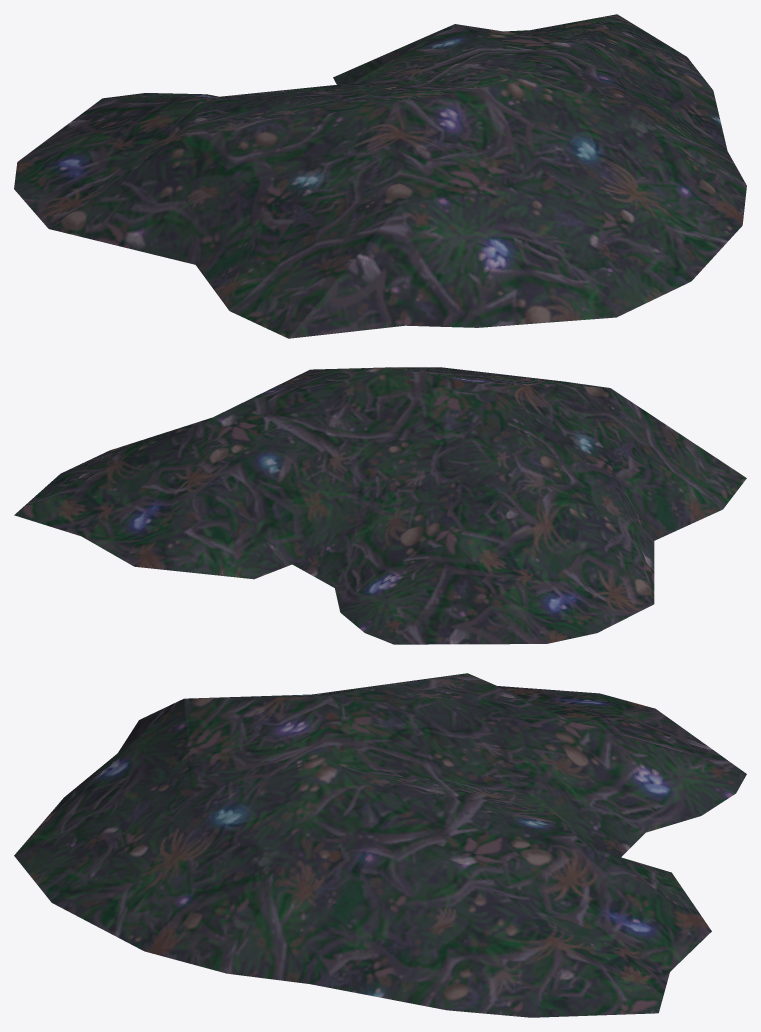
File: yw_shanlin_ground_021.FBX
3 views of the same model, one above another, from view 1: azimuth 30°, elevation 25°; view 2: azimuth 150°, elevation 25°; view 3: azimuth 270°, elevation 25° (orthographic). The views are drawn at different scales.
Visible parts, largest first — view 1: yw_shanlin_ground_021; view 2: yw_shanlin_ground_021; view 3: yw_shanlin_ground_021.
Part boxes in pixels (box(x1,y1,x2,y2)): yw_shanlin_ground_021: box(14, 14, 746, 338); yw_shanlin_ground_021: box(14, 367, 746, 644); yw_shanlin_ground_021: box(14, 673, 746, 1017).
Size of the model in its own units: 547 by 96.53 by 511.
